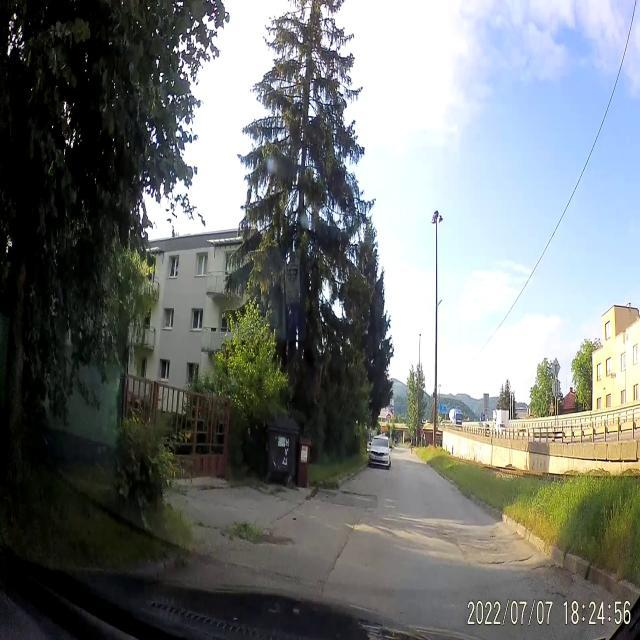Pothole: (532, 555, 572, 609), (336, 484, 378, 512), (479, 553, 532, 569)
